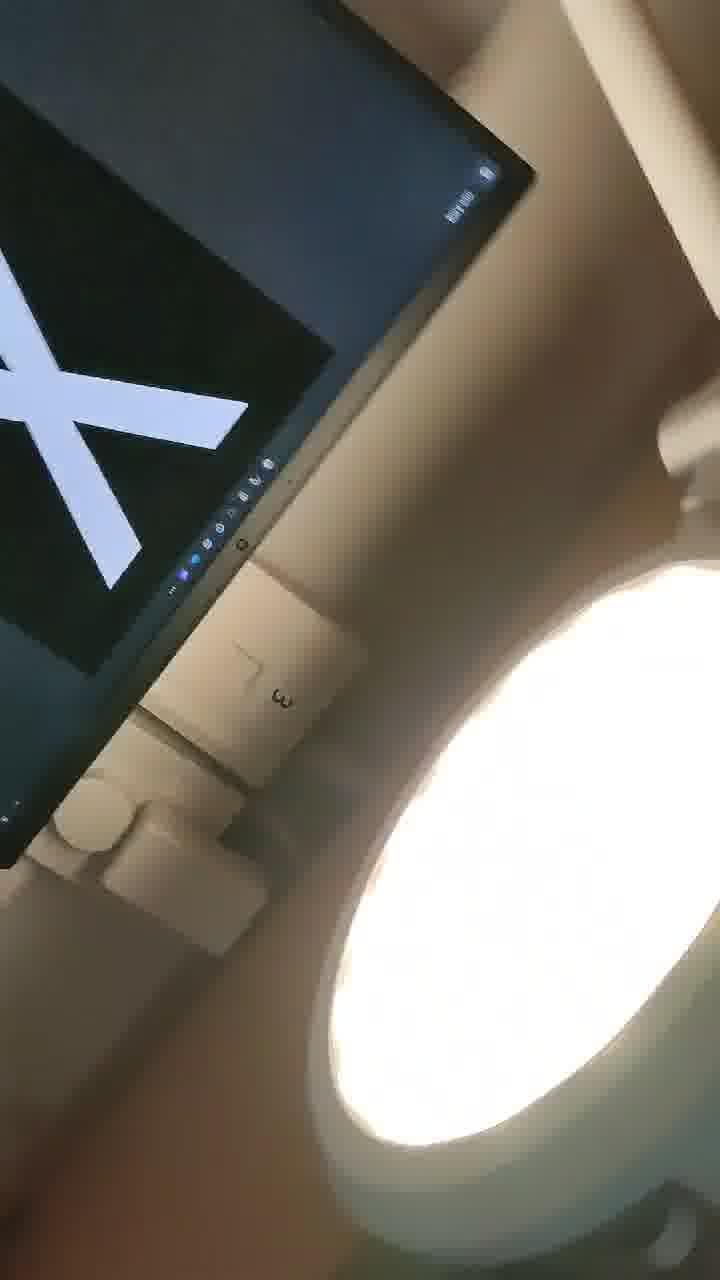X: (1, 100, 297, 667)
